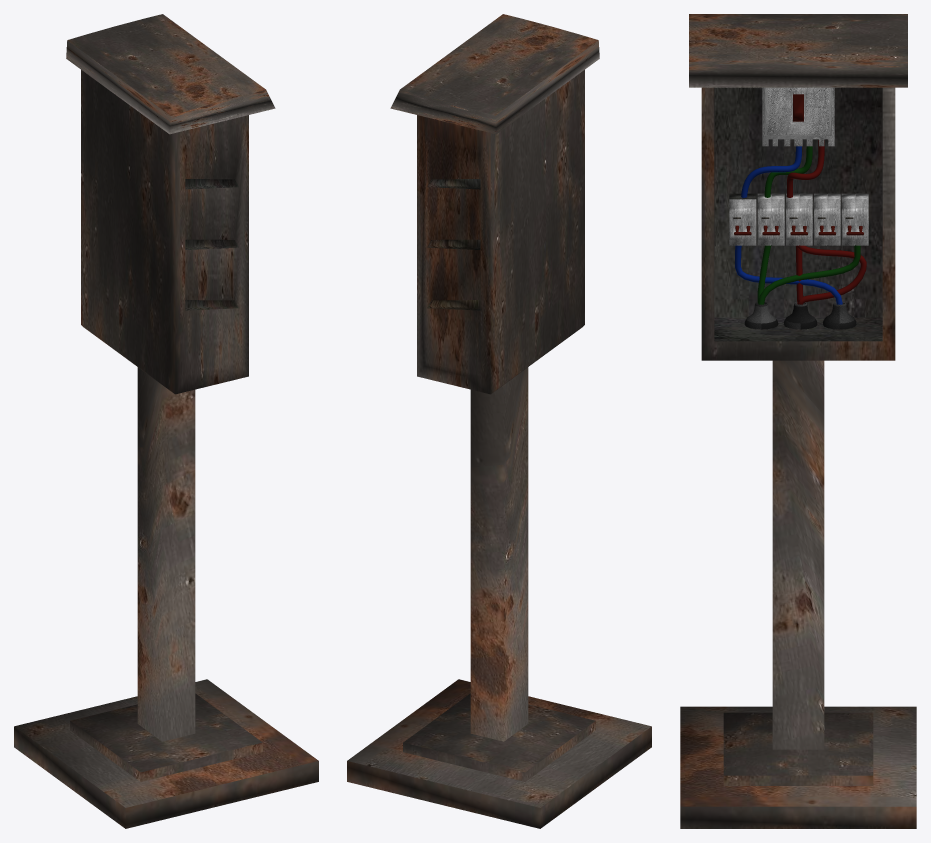
Rendered from Electric Box.fbx.
3 views of the same model, side by side, from view 1: azimuth 30°, elevation 25°; view 2: azimuth 150°, elevation 25°; view 3: azimuth 270°, elevation 25° (orthographic). The views are drawn at different scales.
Parts seen in each view (by area): view 1: Cube.013, Cube, Cube.001; view 2: Cube.013, Cube, Cube.001; view 3: Cube.013, Cube, Cube.001, Cube.002, Cube.003, Cube.009, Cube.011, Cube.005, Cube.007, BézierCurve.003, BézierCurve, BézierCurve.001 (+6 smaller).
Part boxes in pixels (x1,y1,x2,y2): Cube.013: (14, 367, 318, 828); Cube: (81, 70, 248, 394); Cube.001: (66, 14, 275, 134); Cube.013: (347, 367, 651, 828); Cube: (417, 70, 584, 394); Cube.001: (390, 14, 599, 134); Cube.013: (680, 360, 916, 828); Cube: (701, 87, 895, 360); Cube.001: (689, 14, 907, 87); Cube.002: (762, 87, 834, 146); Cube.003: (841, 193, 868, 245); Cube.009: (757, 193, 784, 245); Cube.011: (729, 193, 756, 245); Cube.005: (814, 193, 840, 245); Cube.007: (786, 193, 812, 245); BézierCurve.003: (796, 245, 866, 304); BézierCurve: (758, 245, 860, 304); BézierCurve.001: (735, 245, 842, 304).
Size of the model in its own units: 91.66 by 318 by 91.66.
Materials: 9 (4 with a texture image).
